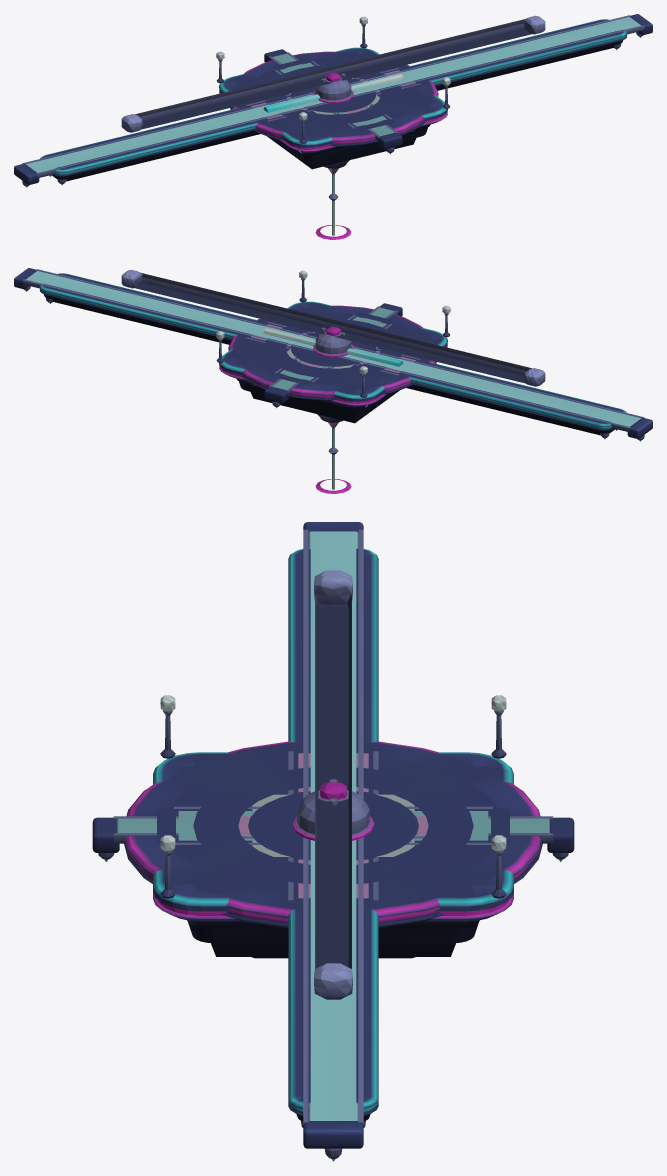
The model's file is core-2-BqE6xErD.glb.
The picture shows the model from 3 angles, top to bottom: view 1: azimuth 30°, elevation 25°; view 2: azimuth 150°, elevation 25°; view 3: azimuth 270°, elevation 25°; orthographic projection. The views are drawn at different scales.
Visible parts, largest first — view 1: beam_48x1.5x2#0, block_44x2x3_grate#1, mount_15.6#0, pad_12x2x12#1, disc_14x1.5#0, disc_10x1.5#1, disc_12x1.5#1, block_44x2x2.5_grate#0, barHub_11x1.2#0, mount_15.3#0, beam_1.5x1x16#0, beam_3x1.5x12#1 (+2 smaller); view 2: beam_48x1.5x2#0, block_44x2x3_grate#1, mount_15.6#0, pad_12x2x12#1, disc_14x1.5#0, disc_10x1.5#1, disc_12x1.5#1, block_44x2x2.5_grate#0, barHub_11x1.2#0, mount_15.3#0, beam_1.5x1x16#0, beam_3x1.5x12#1 (+2 smaller); view 3: beam_48x1.5x2#0, disc_10x1.5#1, disc_14x1.5#0, pad_12x2x12#1, mount_15.6#0, block_44x2x3_grate#1, disc_12x1.5#1, beam_1.5x1x16#0, block_44x2x2.5_grate#0, beam_3x1.5x12#1, mount_15.3#0, barHub_11x1.2#0 (+1 smaller).
Part boxes in pixels (<box>): beam_48x1.5x2#0: <box>14,14,652,187</box>; block_44x2x3_grate#1: <box>40,19,627,185</box>; mount_15.6#0: <box>121,15,545,132</box>; pad_12x2x12#1: <box>216,16,450,169</box>; disc_14x1.5#0: <box>230,51,438,174</box>; disc_10x1.5#1: <box>265,65,403,124</box>; disc_12x1.5#1: <box>251,58,418,130</box>; block_44x2x2.5_grate#0: <box>43,20,623,168</box>; barHub_11x1.2#0: <box>263,72,403,112</box>; mount_15.3#0: <box>129,16,539,131</box>; beam_1.5x1x16#0: <box>264,49,402,154</box>; beam_3x1.5x12#1: <box>272,58,394,143</box>; beam_48x1.5x2#0: <box>14,268,652,441</box>; block_44x2x3_grate#1: <box>39,273,626,439</box>; mount_15.6#0: <box>121,269,545,386</box>; pad_12x2x12#1: <box>216,270,450,423</box>; disc_14x1.5#0: <box>228,305,436,428</box>; disc_10x1.5#1: <box>263,319,401,378</box>; disc_12x1.5#1: <box>248,312,415,384</box>; block_44x2x2.5_grate#0: <box>43,274,623,422</box>; barHub_11x1.2#0: <box>263,326,403,366</box>; mount_15.3#0: <box>127,270,537,385</box>; beam_1.5x1x16#0: <box>264,303,402,408</box>; beam_3x1.5x12#1: <box>272,312,394,397</box>; beam_48x1.5x2#0: <box>303,522,363,1161</box>; disc_10x1.5#1: <box>193,767,473,883</box>; disc_14x1.5#0: <box>124,741,542,928</box>; pad_12x2x12#1: <box>153,695,513,958</box>; mount_15.6#0: <box>314,570,352,999</box>; block_44x2x3_grate#1: <box>288,549,378,1127</box>; disc_12x1.5#1: <box>169,755,497,895</box>; beam_1.5x1x16#0: <box>92,816,574,861</box>; block_44x2x2.5_grate#0: <box>302,548,364,1104</box>; beam_3x1.5x12#1: <box>157,806,509,844</box>; mount_15.3#0: <box>314,574,352,979</box>; barHub_11x1.2#0: <box>292,782,374,840</box>.
Size of the model in its own units: 48 by 12.47 by 16.
